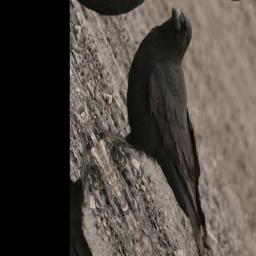Crow: (79, 0, 256, 256)
